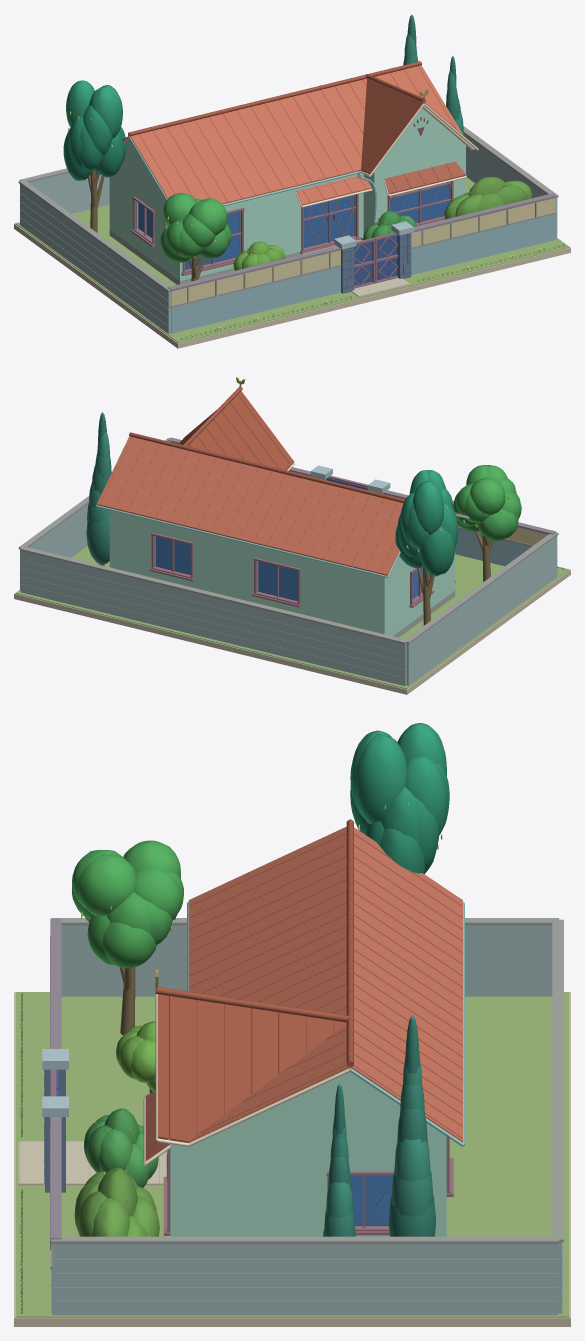
The model's file is grandparents-house.glb.
The picture shows the model from 3 angles, top to bottom: view 1: azimuth 30°, elevation 25°; view 2: azimuth 150°, elevation 25°; view 3: azimuth 270°, elevation 25°; orthographic projection. The views are drawn at different scales.
Visible parts, largest first — view 1: 红色长前坡, 庭院植物, 地块与通道, 左前围墙, 左侧院墙, 右前围墙, 主屋正面, 院门与砌石门柱, 山墙左屋坡, 左侧墙, 中央菱形玄关, 薄荷色正山墙 (+13 smaller); view 2: 红色长后坡, 后侧院墙, 后墙, 庭院植物, 左侧院墙, 地块与通道, 山墙左屋坡, 左侧墙, 左前围墙, 右侧院墙, 后侧补全窗-1.4, 后侧补全窗3.4 (+3 smaller); view 3: 地块与通道, 庭院植物, 右侧院墙, 红色长后坡, 红色长前坡, 右侧墙, 山墙右屋坡, 左侧院墙, 侧山墙封板6.3, 红色右谷口, 后侧院墙, 右侧补全窗 (+8 smaller).
Boxes of the visible parts, x1=… form: 红色长前坡: x1=129, y1=78, x2=366, y2=206; 庭院植物: x1=63, y1=14, x2=532, y2=281; 地块与通道: x1=14, y1=177, x2=570, y2=348; 左前围墙: x1=167, y1=246, x2=341, y2=333; 左侧院墙: x1=18, y1=181, x2=173, y2=333; 右前围墙: x1=411, y1=193, x2=556, y2=274; 主屋正面: x1=177, y1=173, x2=363, y2=280; 院门与砌石门柱: x1=334, y1=221, x2=413, y2=293; 山墙左屋坡: x1=360, y1=78, x2=424, y2=176; 左侧墙: x1=112, y1=166, x2=183, y2=280; 中央菱形玄关: x1=300, y1=177, x2=360, y2=253; 薄荷色正山墙: x1=378, y1=108, x2=465, y2=169; 红色长后坡: x1=96, y1=436, x2=403, y2=577; 后侧院墙: x1=19, y1=547, x2=408, y2=685; 后墙: x1=109, y1=510, x2=385, y2=633; 庭院植物: x1=86, y1=412, x2=521, y2=625; 左侧院墙: x1=405, y1=532, x2=558, y2=685; 地块与通道: x1=14, y1=546, x2=570, y2=694; 山墙左屋坡: x1=188, y1=391, x2=294, y2=470; 左侧墙: x1=380, y1=551, x2=455, y2=636; 左前围墙: x1=383, y1=490, x2=556, y2=566; 右侧院墙: x1=18, y1=438, x2=170, y2=591; 后侧补全窗-1.4: x1=251, y1=558, x2=301, y2=607; 后侧补全窗3.4: x1=149, y1=532, x2=194, y2=581; 地块与通道: x1=14, y1=992, x2=570, y2=1326; 庭院植物: x1=72, y1=723, x2=449, y2=1236; 右侧院墙: x1=51, y1=1236, x2=559, y2=1315; 红色长后坡: x1=350, y1=827, x2=464, y2=1146; 红色长前坡: x1=187, y1=826, x2=346, y2=1015; 右侧墙: x1=170, y1=1134, x2=446, y2=1236; 山墙右屋坡: x1=155, y1=994, x2=346, y2=1146; 左侧院墙: x1=51, y1=918, x2=559, y2=996; 侧山墙封板6.3: x1=216, y1=1072, x2=442, y2=1134; 红色右谷口: x1=188, y1=1024, x2=351, y2=1146; 后侧院墙: x1=552, y1=919, x2=563, y2=1313; 右侧补全窗: x1=326, y1=1171, x2=393, y2=1235.
Size of the model in its own units: 18 by 7.64 by 13.
